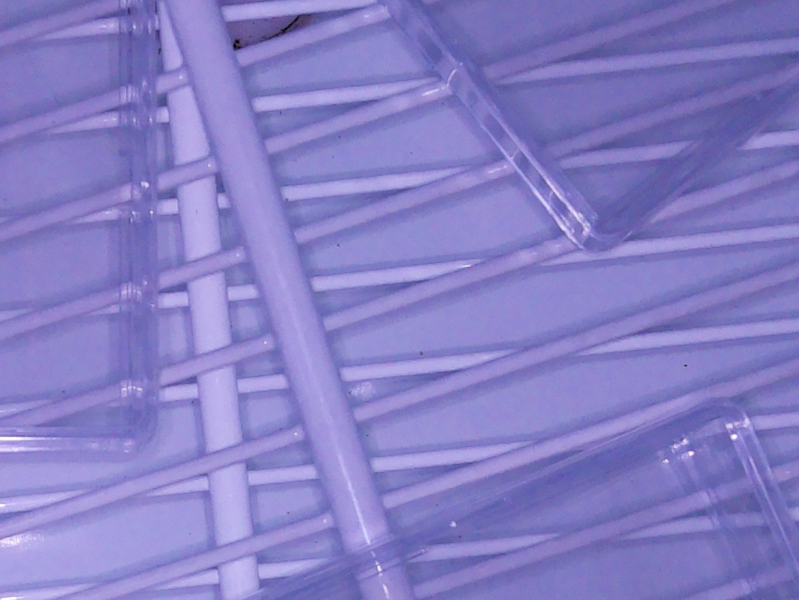plate: (249, 394, 798, 600), (377, 1, 799, 256), (1, 1, 163, 458)
